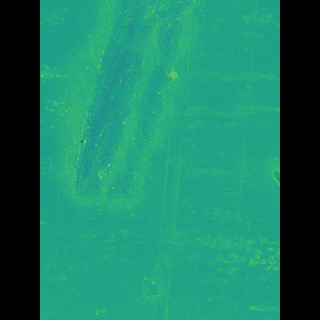Loch: (82, 0, 194, 217)
